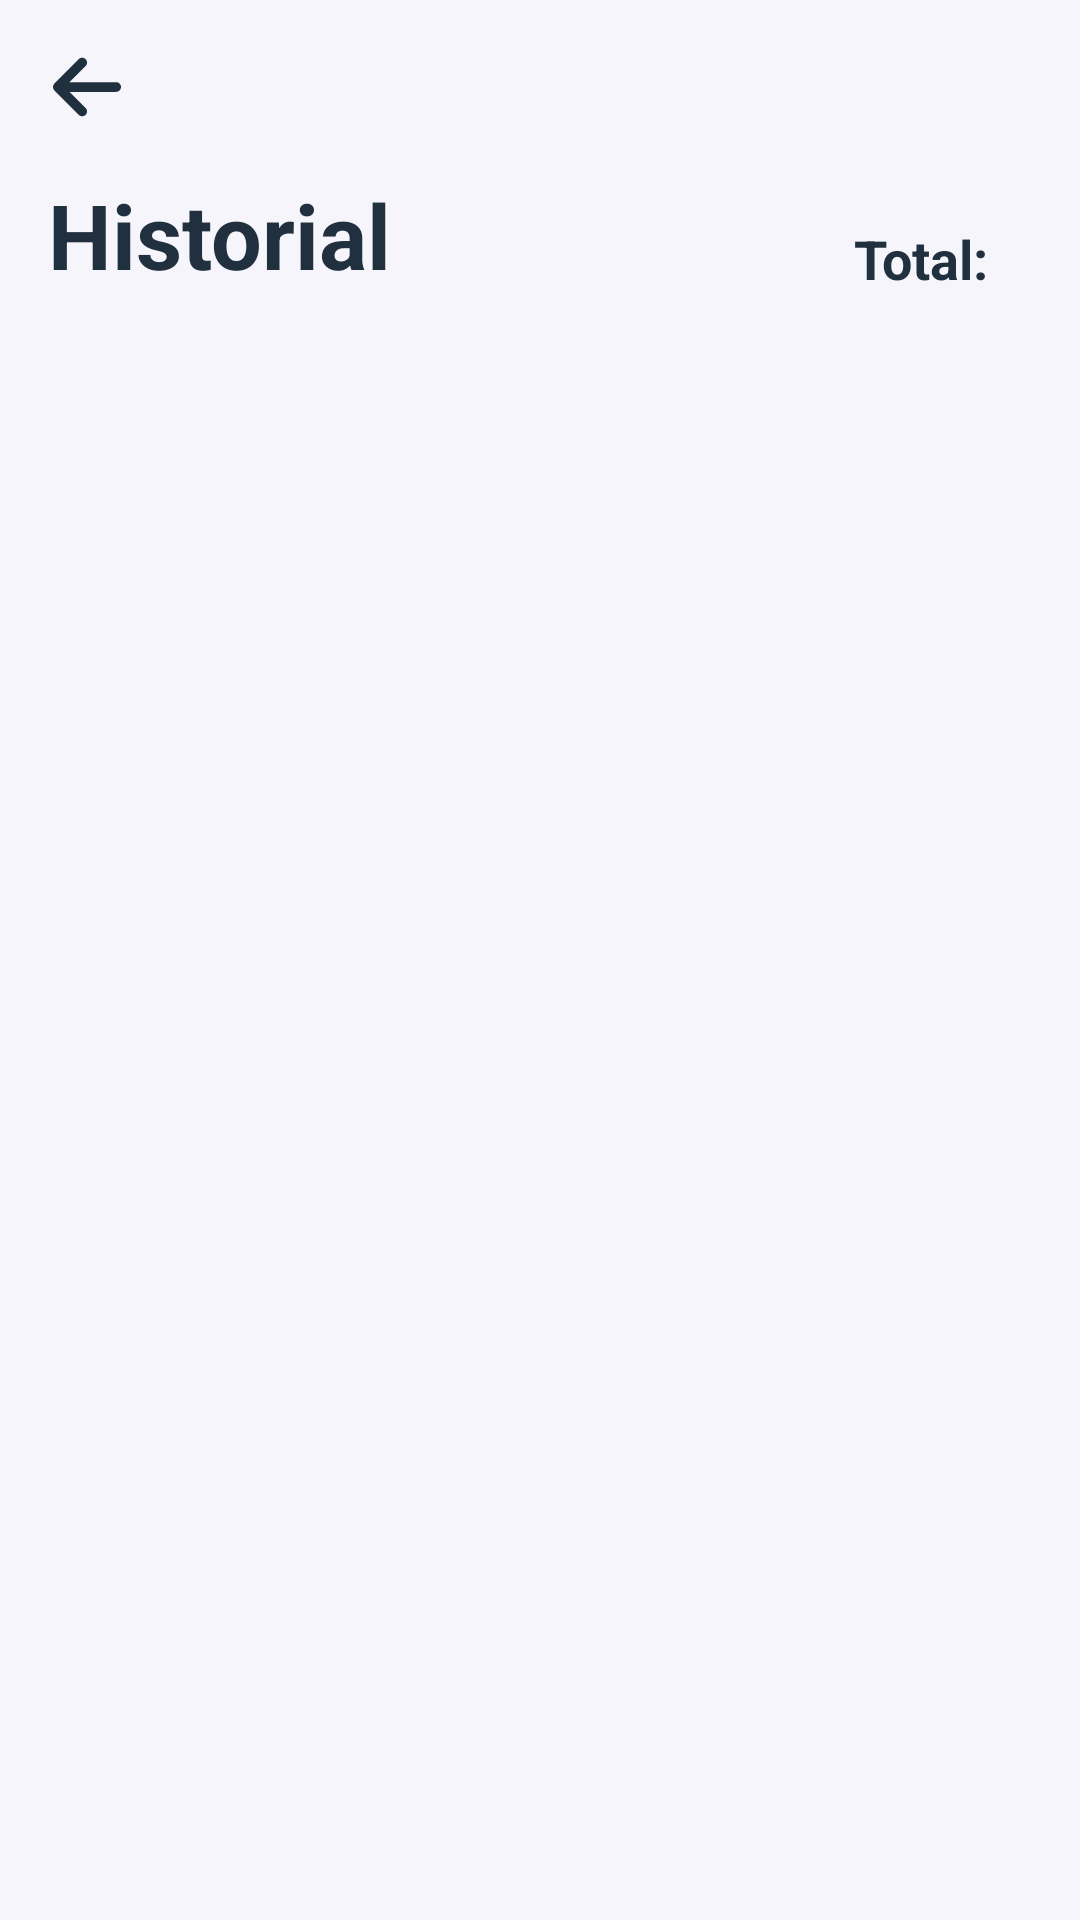

Named icons in this screenshot (1080*1920) and their centers, (x=x, y=y):
go back arrow: (x=87, y=87)
